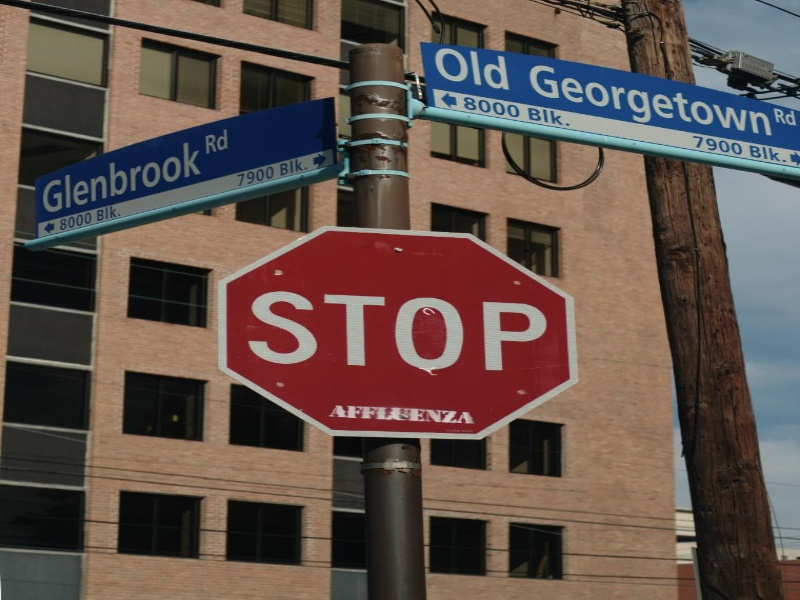stop: (216, 221, 580, 445)
